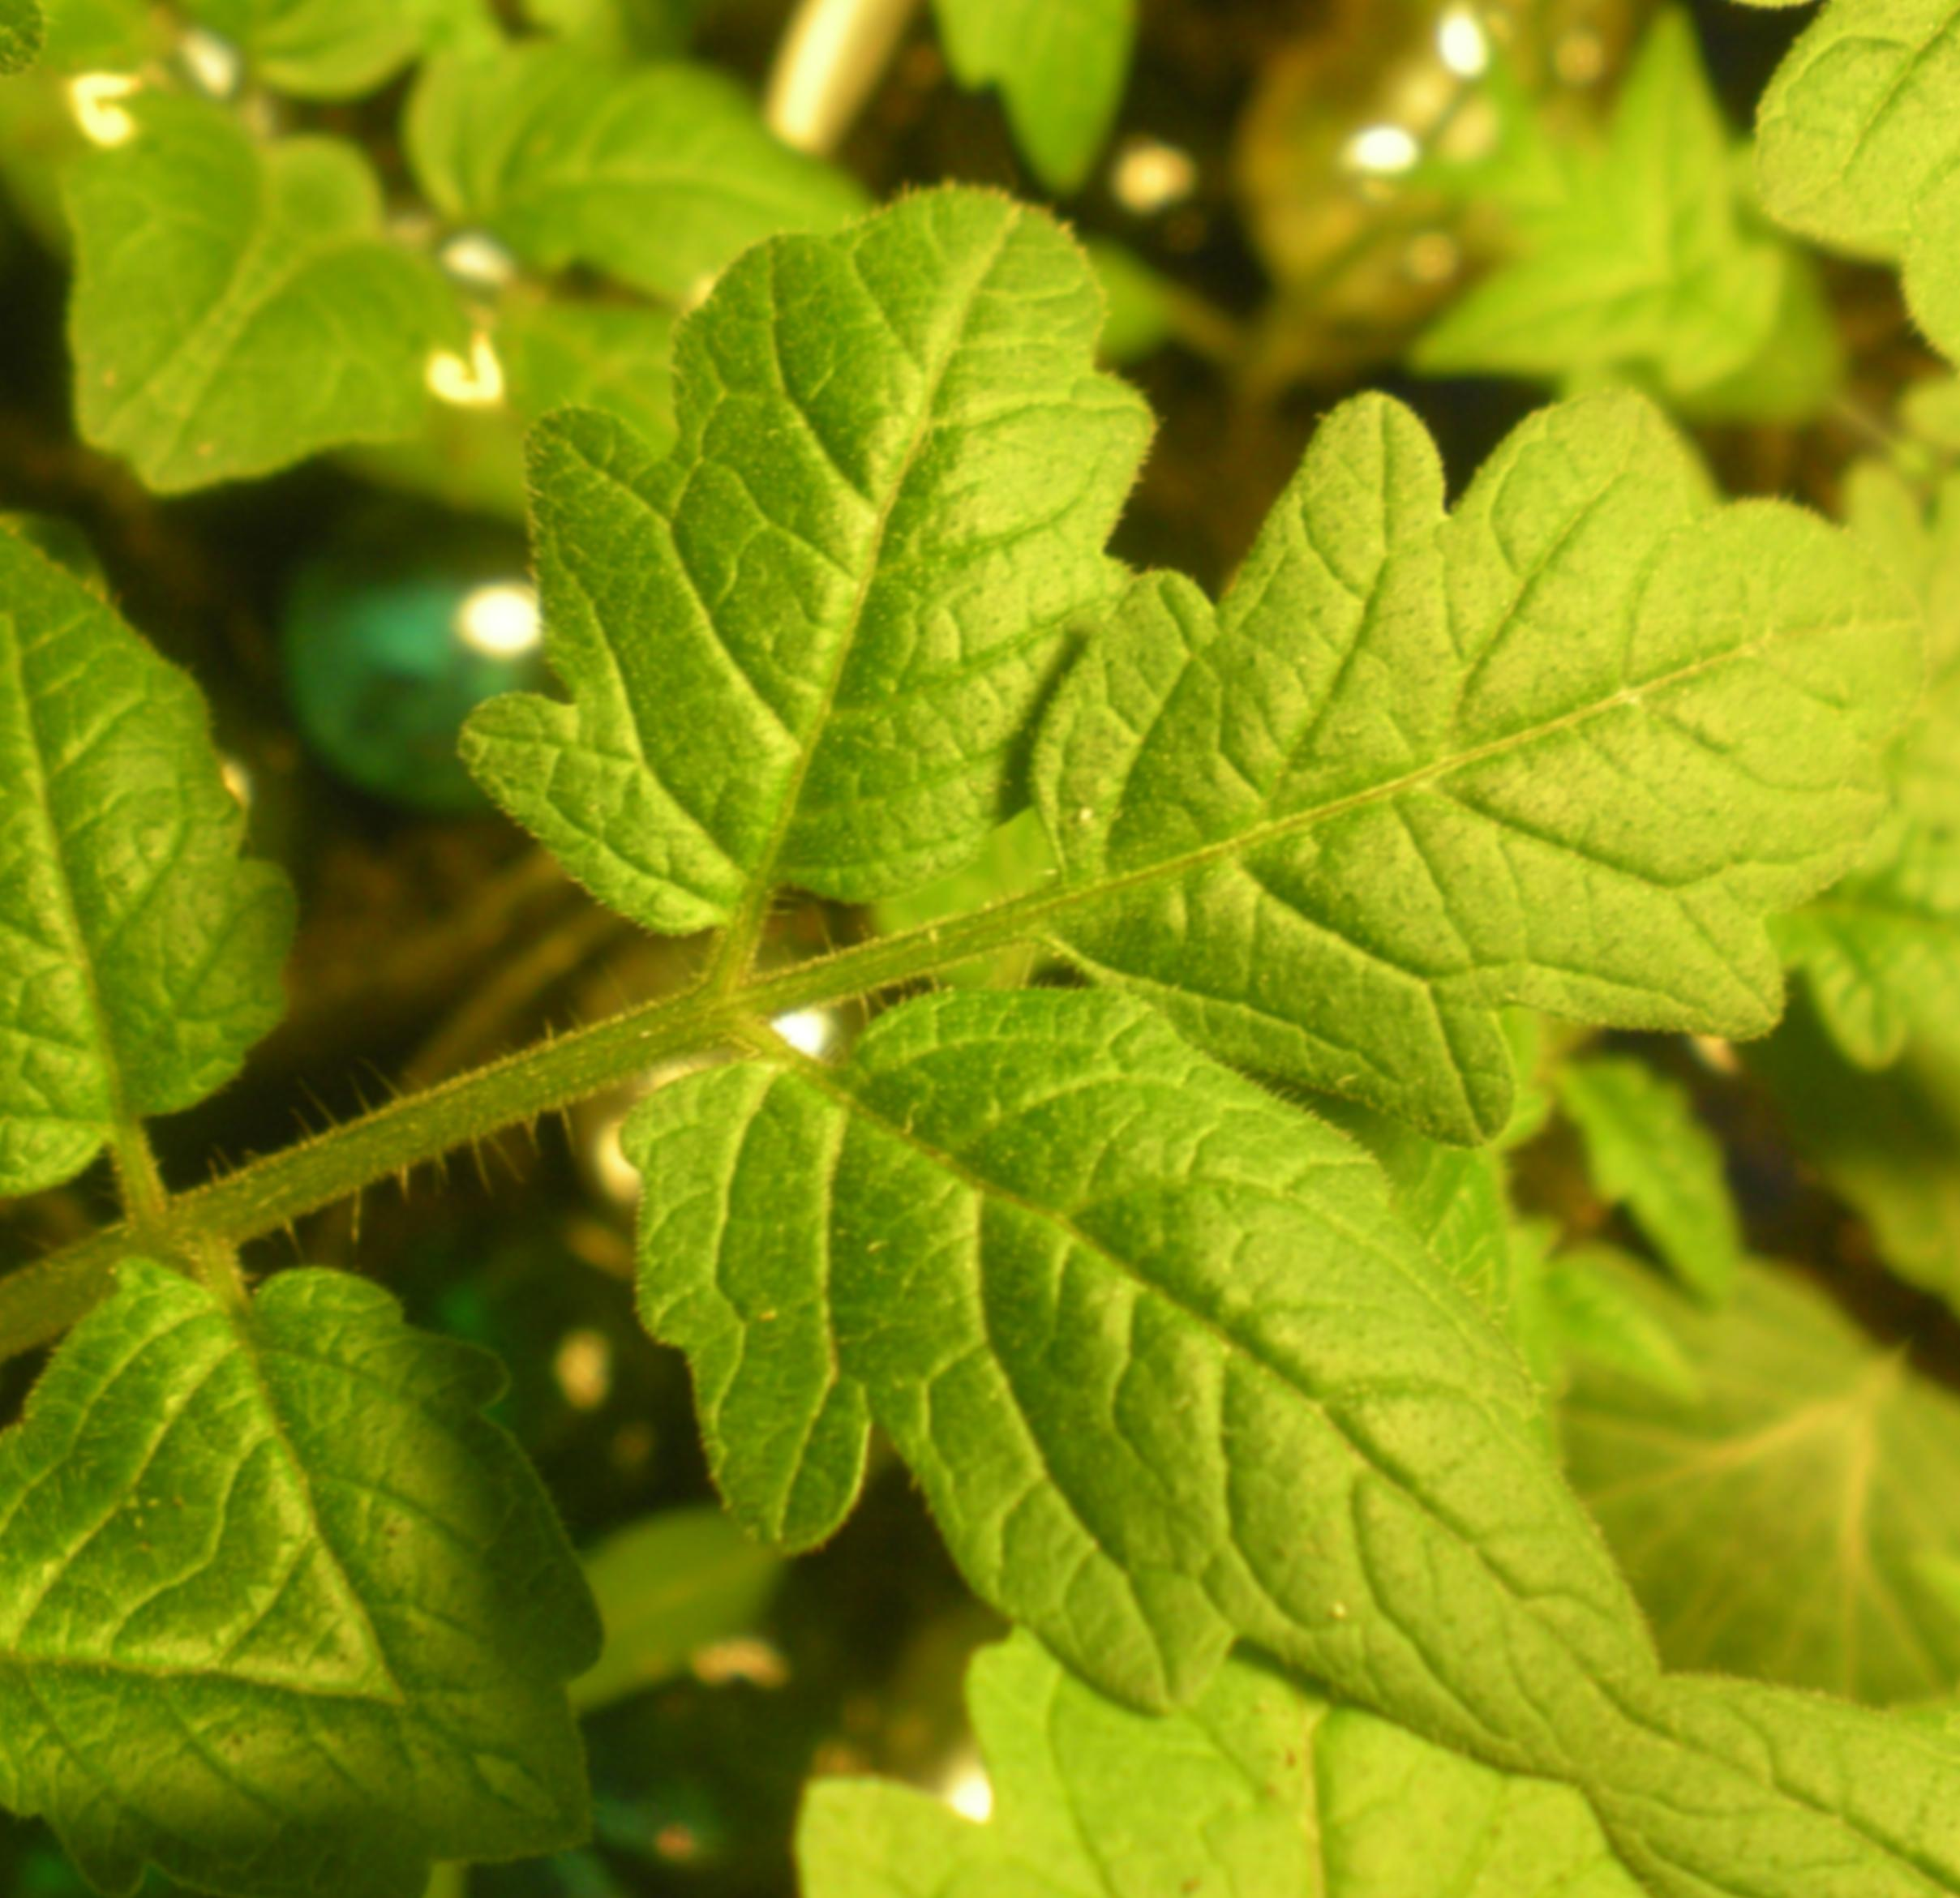Tomato leaf: (464, 789, 1797, 1898), (278, 23, 1353, 1156), (922, 203, 1960, 1347), (0, 1114, 831, 1861), (0, 514, 509, 1298), (352, 0, 926, 437), (110, 136, 583, 640), (665, 0, 1271, 220)
